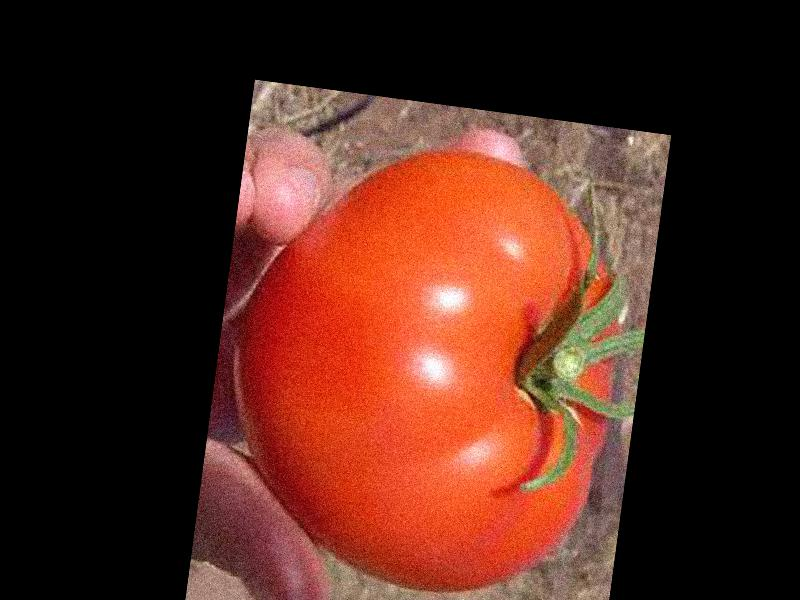Tomato: (212, 127, 639, 600)
